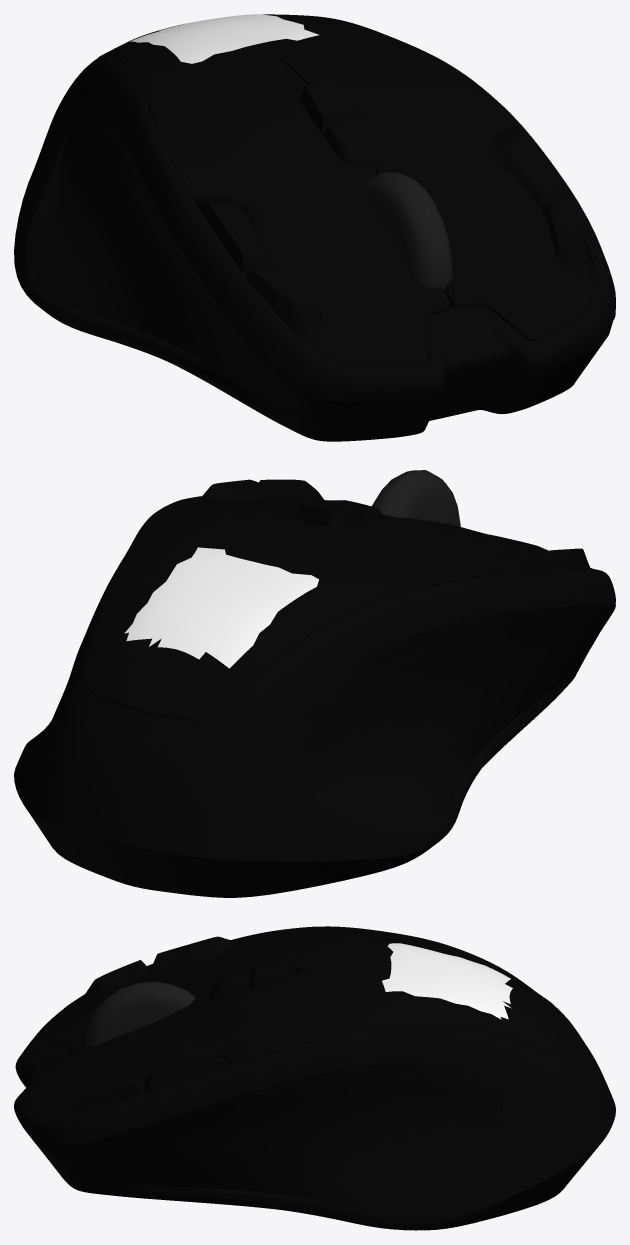
The model's file is mouse2.glb.
3 views of the same model, one above another, from view 1: azimuth 30°, elevation 25°; view 2: azimuth 150°, elevation 25°; view 3: azimuth 270°, elevation 25° (orthographic). The views are drawn at different scales.
Parts seen in each view (by area): view 1: G600; view 2: G600; view 3: G600.
Part boxes in pixels (left/top/right/bottom): G600: left=14, top=14, right=615, bottom=441; G600: left=14, top=470, right=615, bottom=897; G600: left=14, top=926, right=615, bottom=1230.
Bounding box in the file's own units: 0.2709 × 0.1619 × 0.4391.
3 materials, 1 textured.
